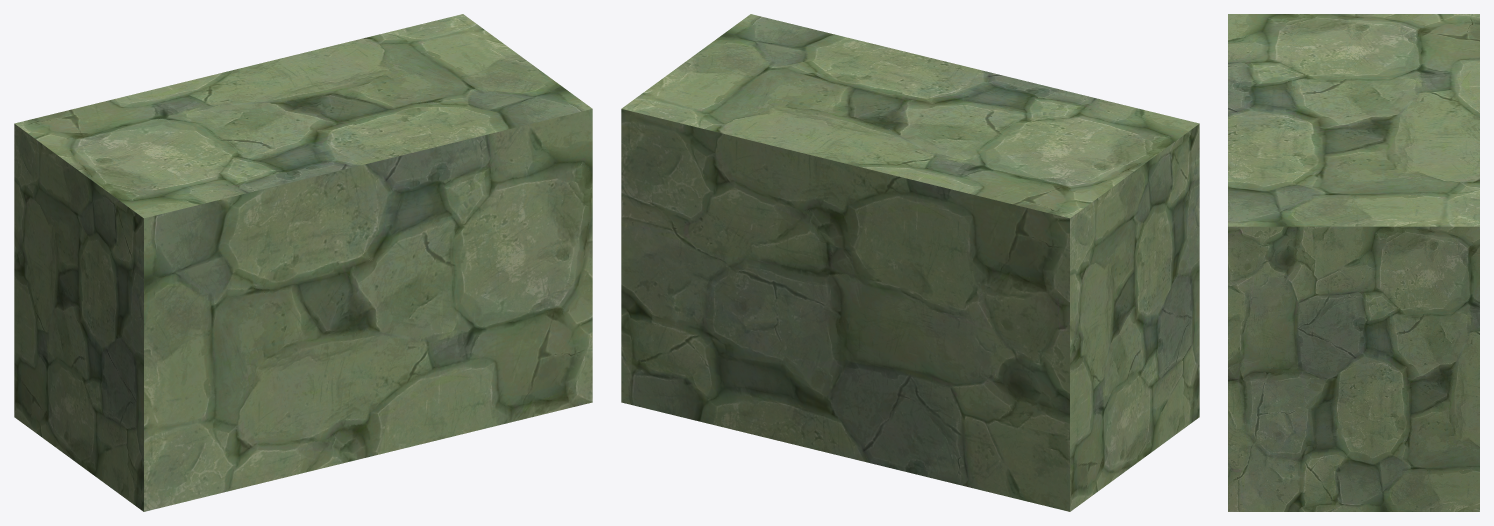
The model's file is Ruins_Wall_2_5Mx4Mx2M_A007.fbx.
3 views of the same model, side by side, from view 1: azimuth 30°, elevation 25°; view 2: azimuth 150°, elevation 25°; view 3: azimuth 270°, elevation 25° (orthographic). The views are drawn at different scales.
Visible parts, largest first — view 1: Ruins_Wall_2_5Mx4Mx2M_A007; view 2: Ruins_Wall_2_5Mx4Mx2M_A007; view 3: Ruins_Wall_2_5Mx4Mx2M_A007.
Boxes of the visible parts, left/top/right/bottom form: Ruins_Wall_2_5Mx4Mx2M_A007: left=14, top=14, right=592, bottom=511; Ruins_Wall_2_5Mx4Mx2M_A007: left=621, top=14, right=1199, bottom=511; Ruins_Wall_2_5Mx4Mx2M_A007: left=1228, top=14, right=1479, bottom=511.
Bounding box in the file's own units: 400 × 250 × 200.
